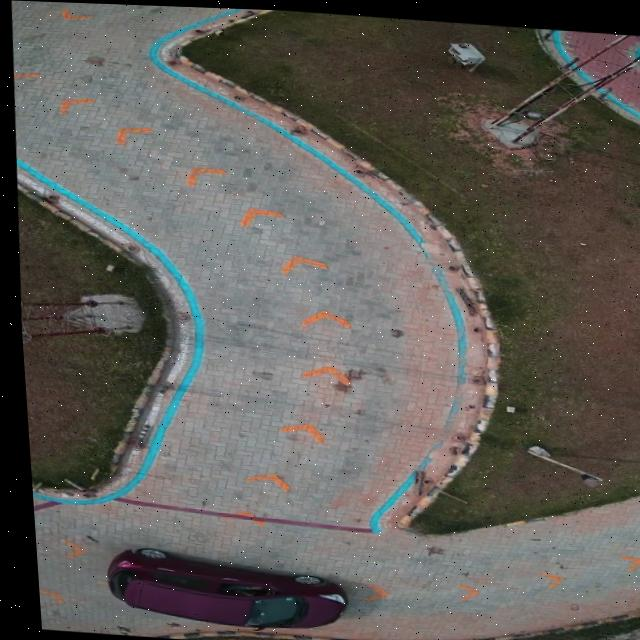car: (99, 546, 336, 625)
